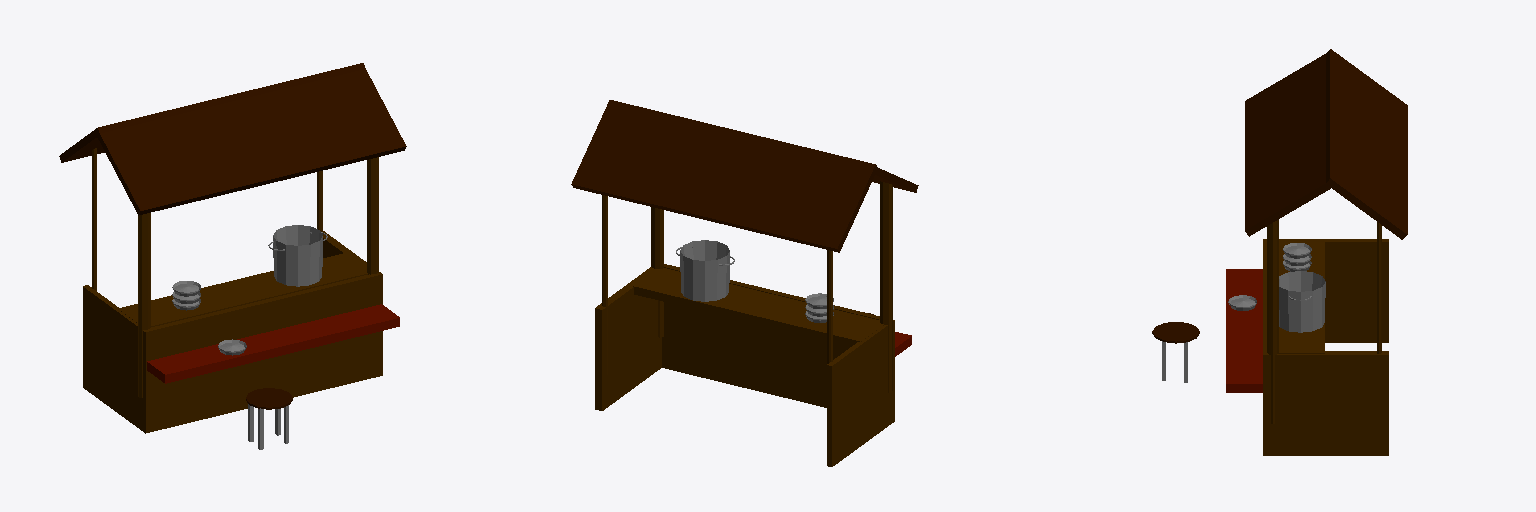
File: stall.obj
3 views of the same model, side by side, from view 1: azimuth 30°, elevation 25°; view 2: azimuth 150°, elevation 25°; view 3: azimuth 270°, elevation 25° (orthographic).
Visible parts, largest first — view 1: group2 pCube1, pCube3, pCube5, group2 pCube2, group1 pCylinder8, pCube4, pCylinder2 group2, group2 pCylinder1, pCylinder10, group2 pCylinder4; view 2: pCube4, group2 pCube1, group2 pCube2, group1 pCylinder8, pCylinder2 group2, group2 pCylinder1, group2 pCylinder3, group2 pCylinder4; view 3: group2 pCube1, pCube4, pCube3, pCube5, group1 pCylinder8, group2 pCylinder1, group2 pCube2, pCylinder10, group2 pCylinder3.
Part boxes in pixels (x1,y1,x2,y2): group2 pCube1: (83, 231, 382, 433); pCube3: (97, 69, 406, 215); pCube5: (147, 304, 399, 383); group2 pCube2: (118, 252, 367, 326); group1 pCylinder8: (273, 225, 322, 286); pCube4: (59, 63, 365, 162); pCylinder2 group2: (138, 213, 150, 397); group2 pCylinder1: (367, 157, 378, 274); pCylinder10: (246, 388, 292, 409); group2 pCylinder4: (92, 148, 96, 290); pCube4: (571, 100, 877, 252); group2 pCube1: (595, 264, 894, 466); group2 pCube2: (630, 268, 883, 346); group1 pCylinder8: (680, 240, 729, 301); pCylinder2 group2: (880, 181, 892, 392); group2 pCylinder1: (651, 207, 663, 337); group2 pCylinder3: (602, 195, 607, 374); group2 pCylinder4: (827, 250, 832, 363); group2 pCube1: (1263, 239, 1388, 455); pCube4: (1326, 49, 1407, 239); pCube3: (1245, 54, 1331, 236); pCube5: (1226, 269, 1262, 392); group1 pCylinder8: (1279, 271, 1325, 332); group2 pCylinder1: (1267, 220, 1278, 423); group2 pCube2: (1278, 241, 1324, 353); pCylinder10: (1152, 322, 1199, 343); group2 pCylinder3: (1377, 222, 1381, 353).
Size of the model in its own units: 4.05 by 4.14 by 3.36.